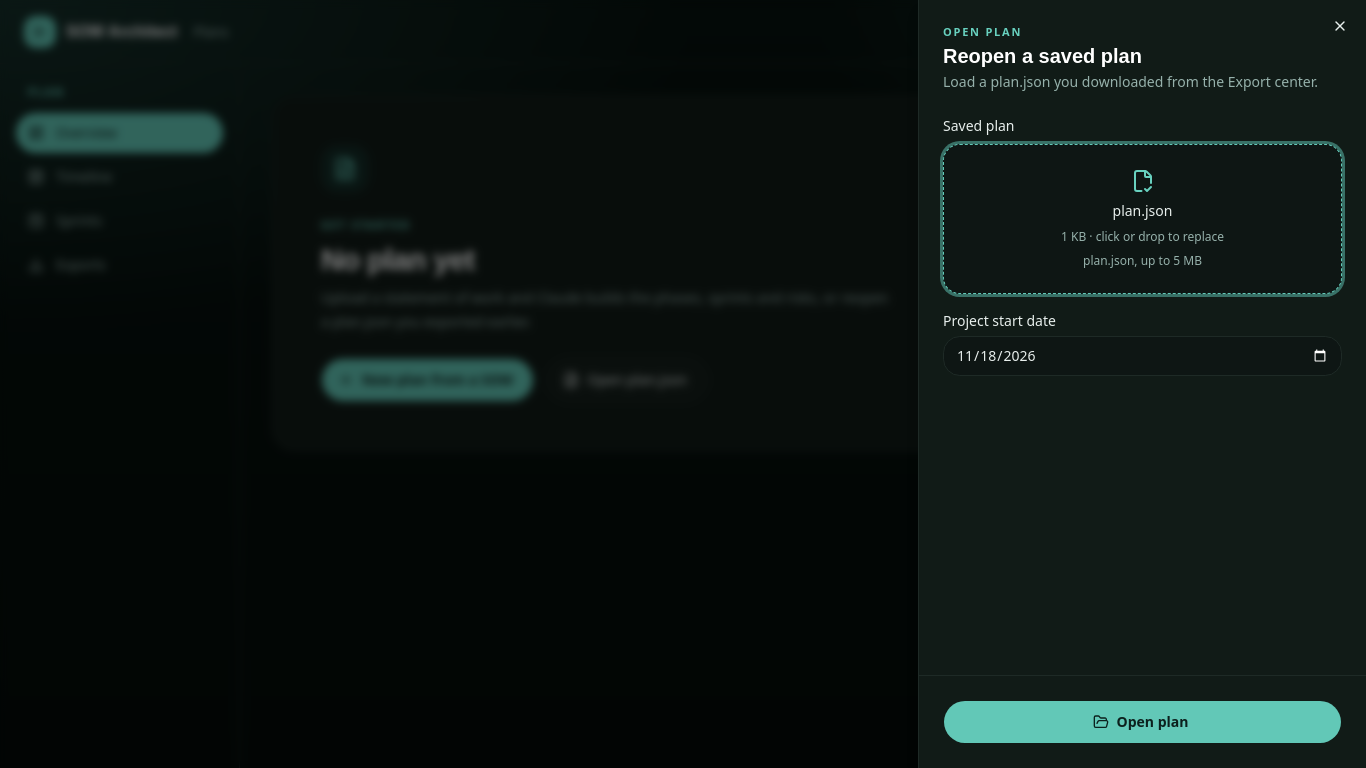
Test: Unsaved edits › warns before leaving only after the plan has been edited
The image size is (1366, 768).
Earlier steps of the test are not shown.
Click the button "Open plan" at x=1142, y=722, box [943, 700, 1342, 744]
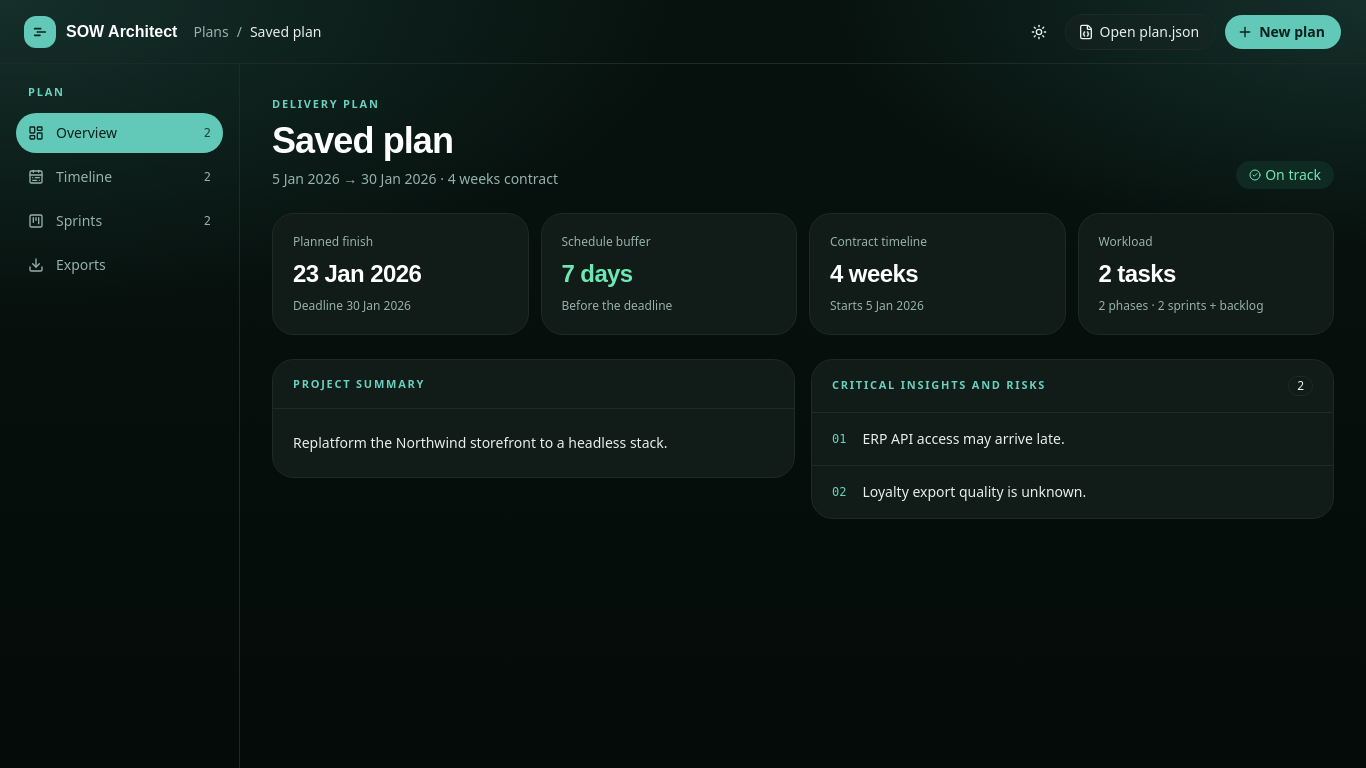
Expected: the heading "Saved plan" is shown, [272, 120, 453, 160]
Click the button "Timeline 2" at x=120, y=176, box [16, 156, 223, 196]
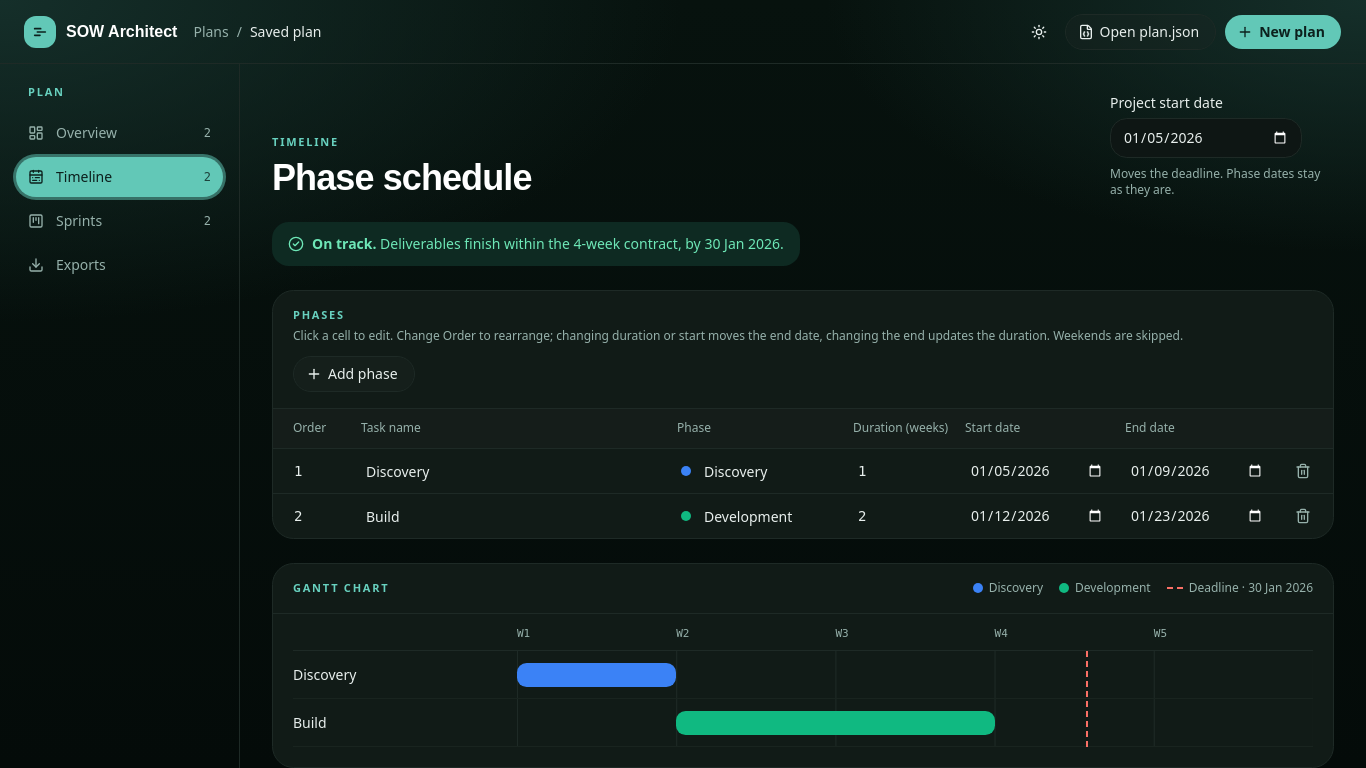
Click the button named "Delete Discovery" at x=1303, y=471, box [1285, 453, 1321, 489]
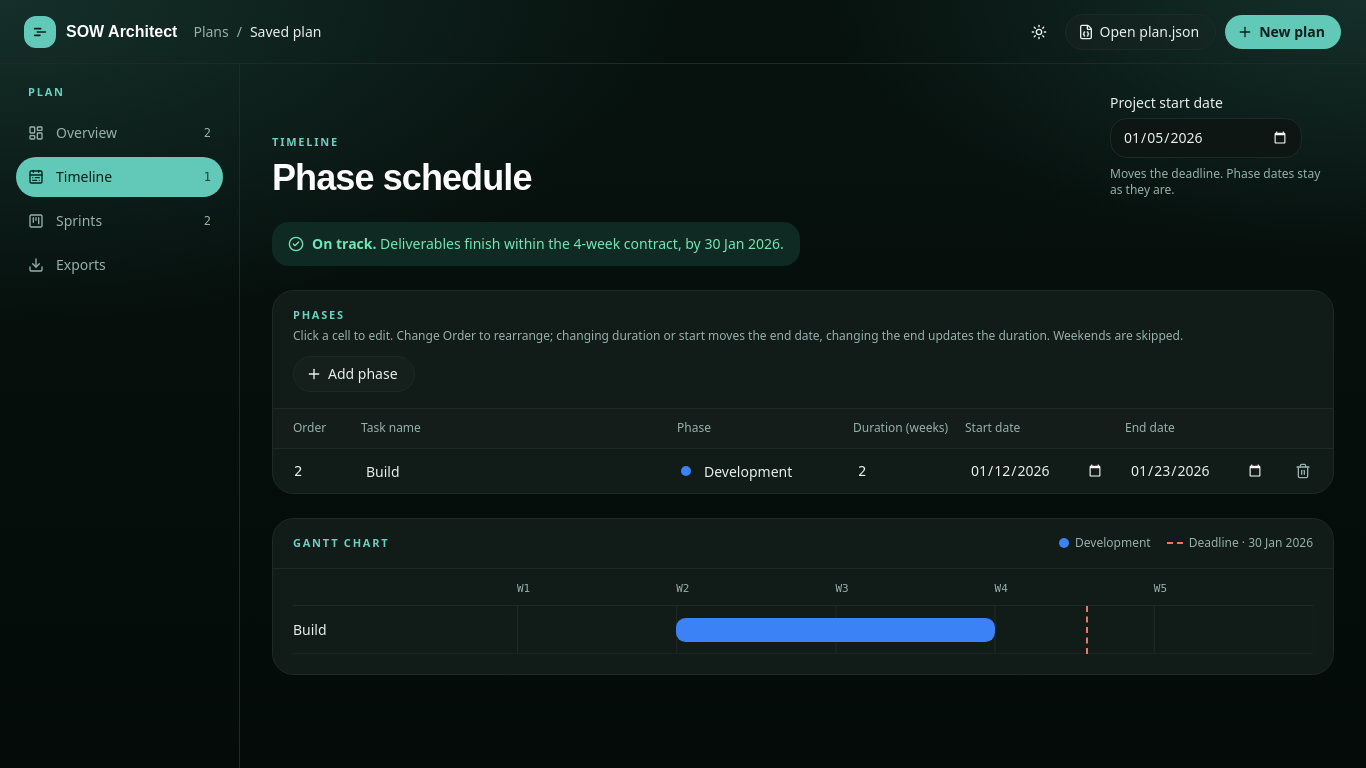
Expected: the number field labelled "Task name for Discovery" is gone
